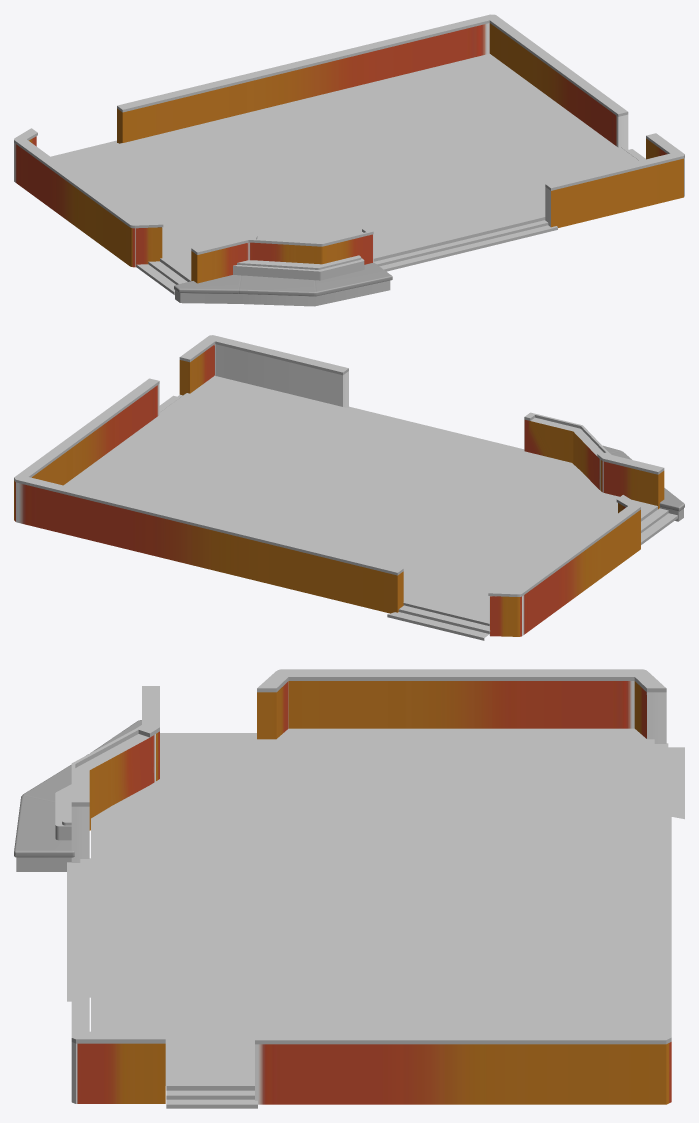
File: CommonZone.fbx
The picture shows the model from 3 angles, top to bottom: view 1: azimuth 30°, elevation 25°; view 2: azimuth 150°, elevation 25°; view 3: azimuth 270°, elevation 25°; orthographic projection. The views are drawn at different scales.
Parts seen in each view (by area): view 1: group19; view 2: group19; view 3: group19.
Part boxes in pixels (box(x1,y1,x2,y2)): group19: box(14, 14, 684, 306); group19: box(14, 335, 684, 640); group19: box(14, 669, 684, 1108).
Size of the model in its own units: 517 by 45.33 by 391.
